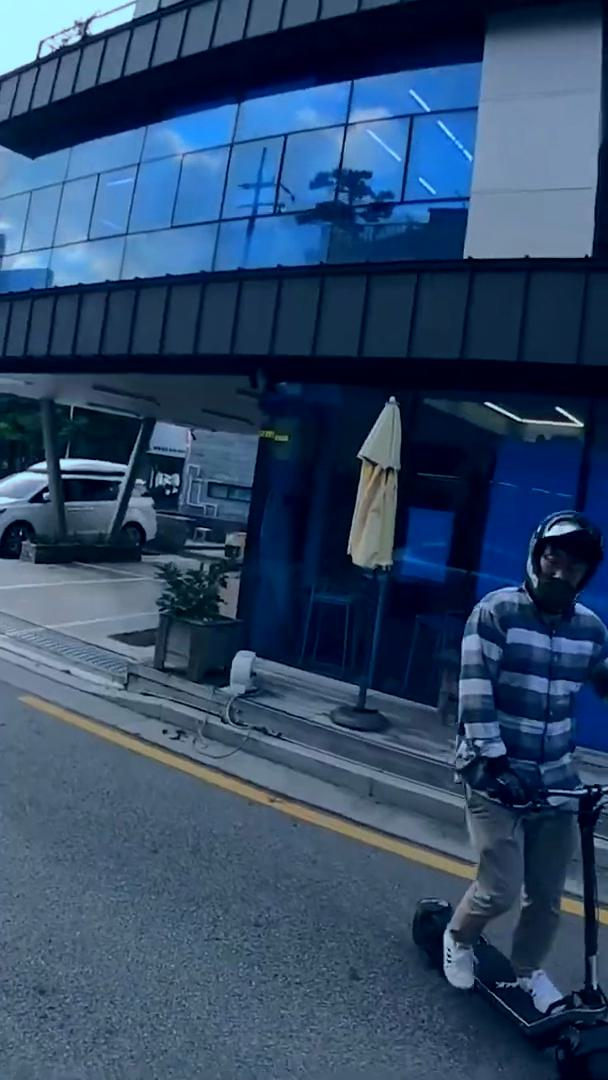helmet: (408, 504, 606, 1080)
